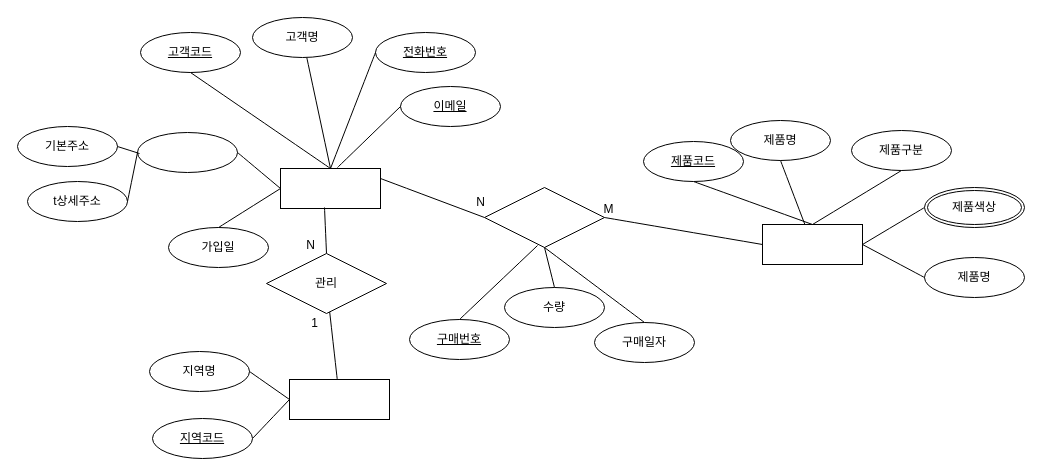
The diagram is 1042 pixels wide and 476 high, and some of its shapes have lost their labels. The shapes that lost their labels are listed below. From the top down, each one's centre as x and y in pixels, then its label:
At (x=187, y=152): "주소".
At (x=330, y=188): "고객".
At (x=544, y=217): "구매".
At (x=812, y=244): "제품".
At (x=339, y=399): "지역".
